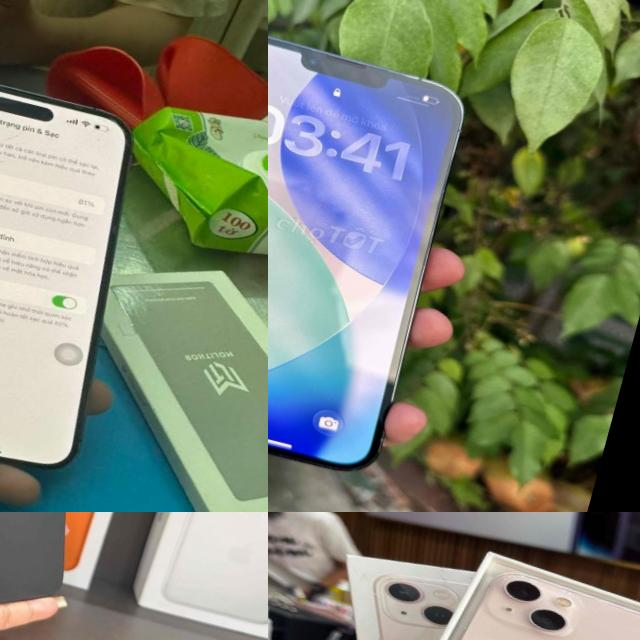gen_12_13: (268, 22, 476, 490), (365, 547, 640, 640)
gen_15: (0, 55, 168, 485), (0, 512, 159, 636)
